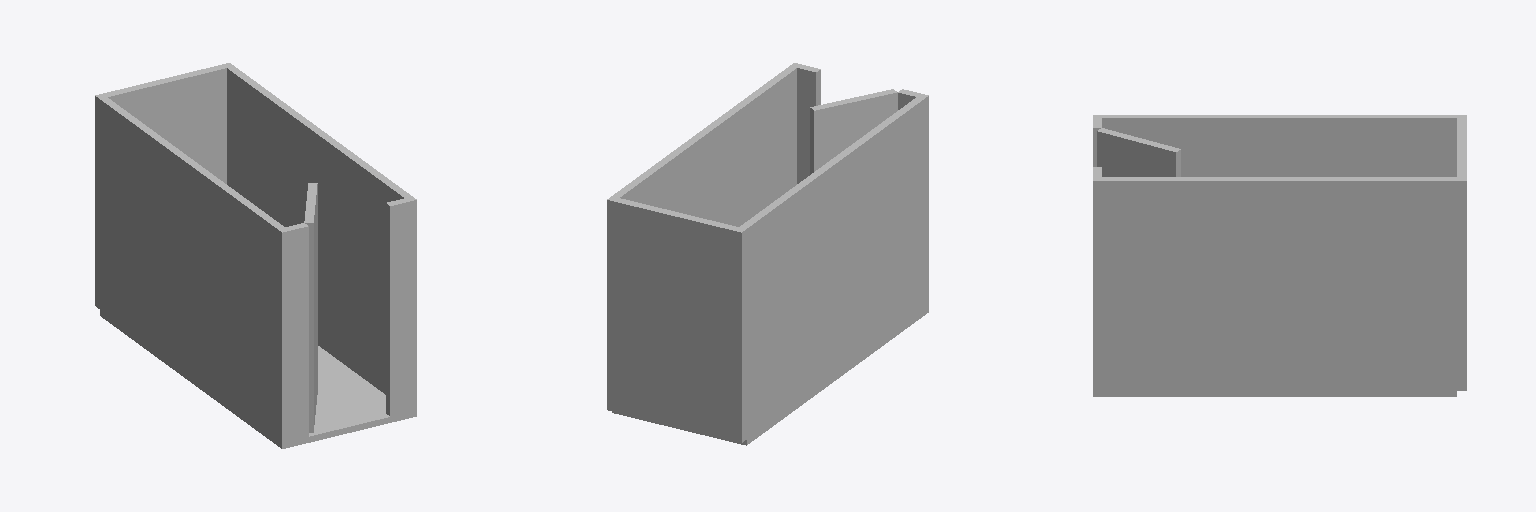
Rendered from cubiclee.obj.
The picture shows the model from 3 angles: view 1: azimuth 30°, elevation 25°; view 2: azimuth 150°, elevation 25°; view 3: azimuth 270°, elevation 25°; orthographic projection.
Parts seen in each view (by area): view 1: Mesh1 Group1 Model, Mesh2 Group2 Model, Mesh7 Group7 Model, Mesh3 Group3 Model, Mesh4 Group4 Model, Mesh6 Group6 Model, Mesh5 Group5 Model; view 2: Mesh1 Group1 Model, Mesh7 Group7 Model, Mesh2 Group2 Model, Mesh5 Group5 Model, Mesh4 Group4 Model, Mesh3 Group3 Model, Mesh6 Group6 Model; view 3: Mesh2 Group2 Model, Mesh1 Group1 Model, Mesh5 Group5 Model, Mesh7 Group7 Model, Mesh6 Group6 Model, Mesh4 Group4 Model.
Boxes of the visible parts, box(x1,y1,x2,y2) form: Mesh1 Group1 Model: box(100, 97, 284, 439); Mesh2 Group2 Model: box(227, 66, 411, 394); Mesh7 Group7 Model: box(95, 63, 233, 308); Mesh3 Group3 Model: box(278, 223, 308, 442); Mesh4 Group4 Model: box(386, 196, 416, 416); Mesh6 Group6 Model: box(100, 310, 416, 448); Mesh5 Group5 Model: box(304, 183, 317, 432); Mesh1 Group1 Model: box(740, 97, 923, 438); Mesh7 Group7 Model: box(607, 196, 746, 442); Mesh2 Group2 Model: box(613, 66, 796, 226); Mesh5 Group5 Model: box(810, 89, 897, 174); Mesh4 Group4 Model: box(790, 63, 820, 183); Mesh3 Group3 Model: box(898, 89, 928, 308); Mesh6 Group6 Model: box(612, 306, 928, 445); Mesh2 Group2 Model: box(1102, 177, 1456, 390); Mesh1 Group1 Model: box(1102, 115, 1456, 176); Mesh5 Group5 Model: box(1097, 128, 1180, 176); Mesh7 Group7 Model: box(1457, 115, 1466, 390); Mesh6 Group6 Model: box(1093, 391, 1456, 396); Mesh4 Group4 Model: box(1093, 167, 1101, 390).
Size of the model in its own units: 1901 by 2920 by 4577.